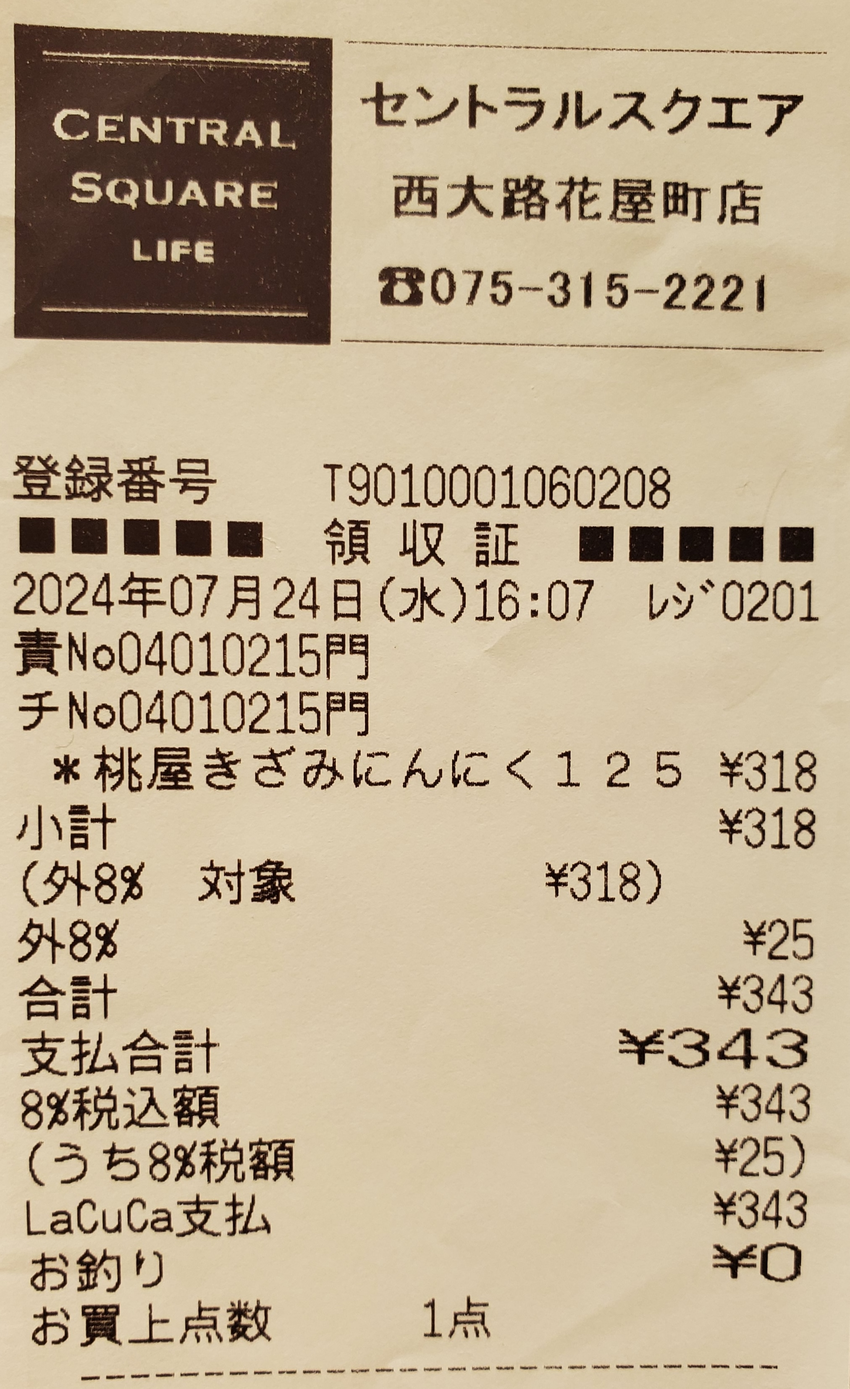Date: (8, 556, 334, 625)
Shopname: (356, 71, 802, 155)
Telnum: (432, 259, 776, 331)
Totalpay: (12, 1025, 826, 1077)
